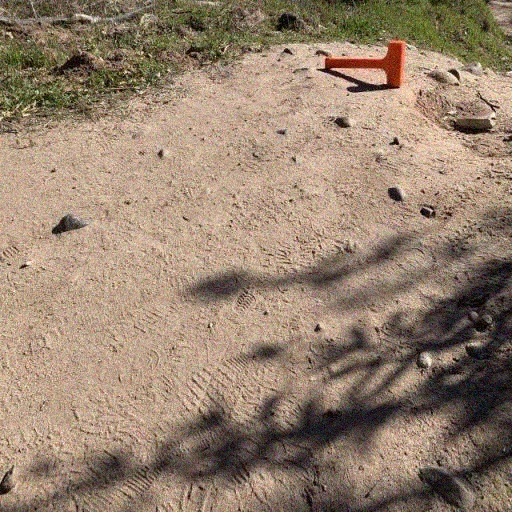mallet: (324, 40, 406, 88)
